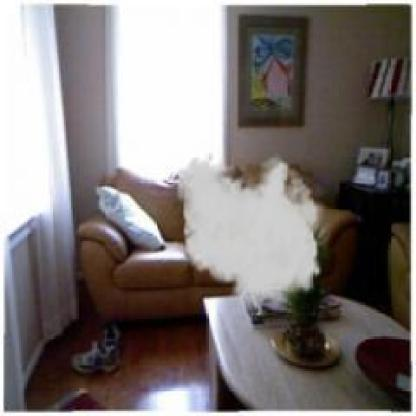Smoke: (174, 150, 330, 316)
